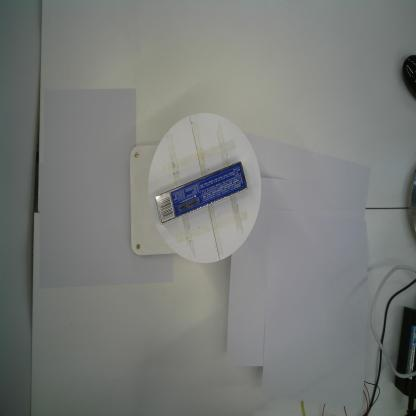Personal Hygiene: (153, 159, 247, 225)
